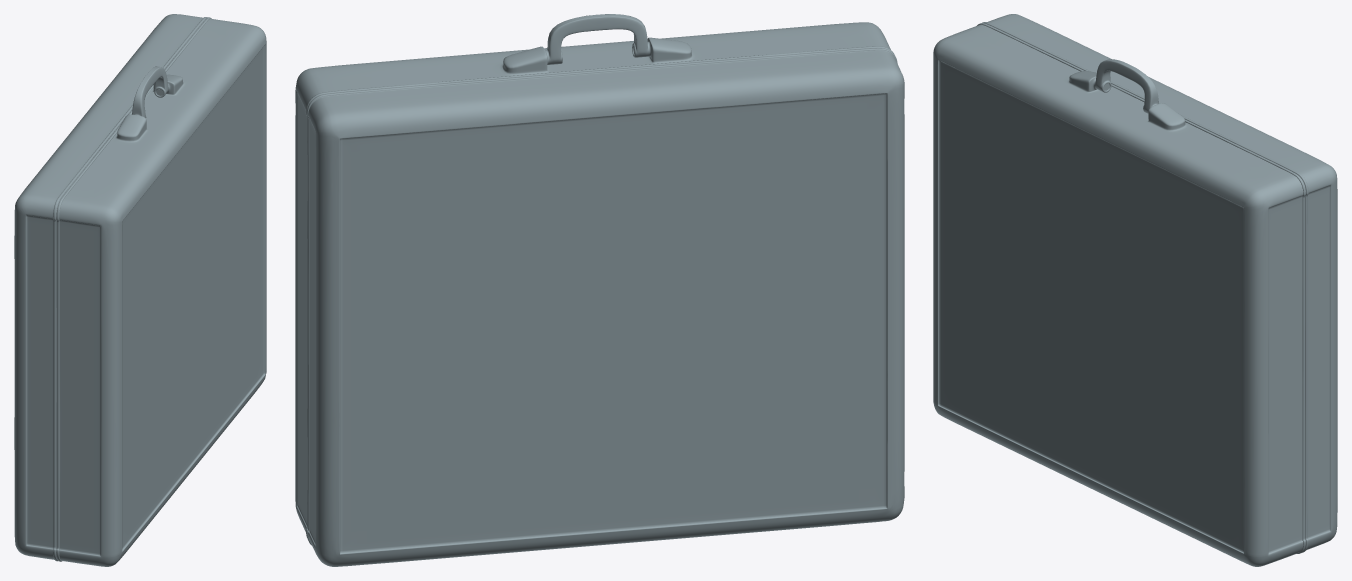
File: wallet-transformed.glb
3 views of the same model, side by side, from view 1: azimuth 30°, elevation 25°; view 2: azimuth 150°, elevation 25°; view 3: azimuth 270°, elevation 25° (orthographic). The views are drawn at different scales.
Parts seen in each view (by area): view 1: Case_HP002__0; view 2: Case_HP002__0; view 3: Case_HP002__0.
Part boxes in pixels (<box>): Case_HP002__0: <box>14,14,266,566</box>; Case_HP002__0: <box>295,14,904,566</box>; Case_HP002__0: <box>933,14,1337,566</box>.
Bounding box in the file's own units: 53.19 × 55.59 × 48.79.
